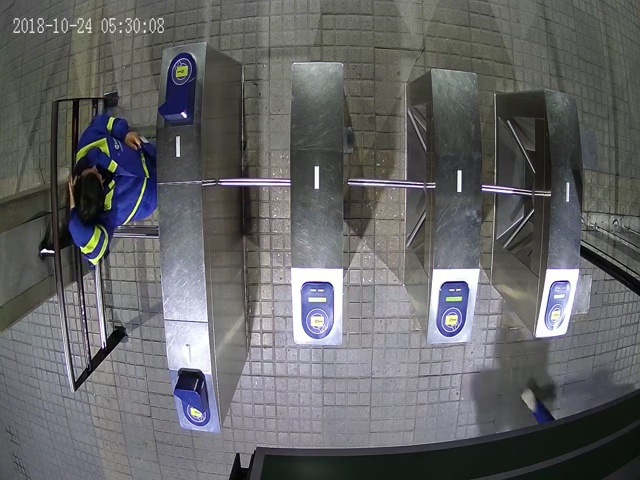Chaleco_azul: (67, 114, 159, 266)
